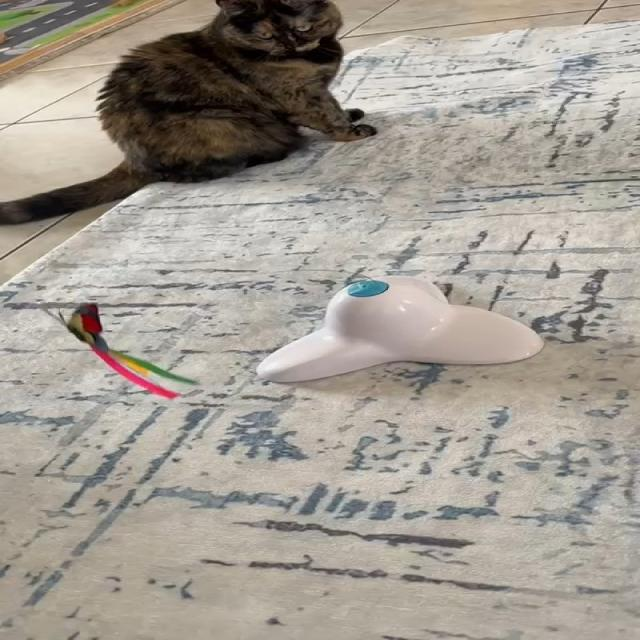authorized: (0, 0, 377, 225)
